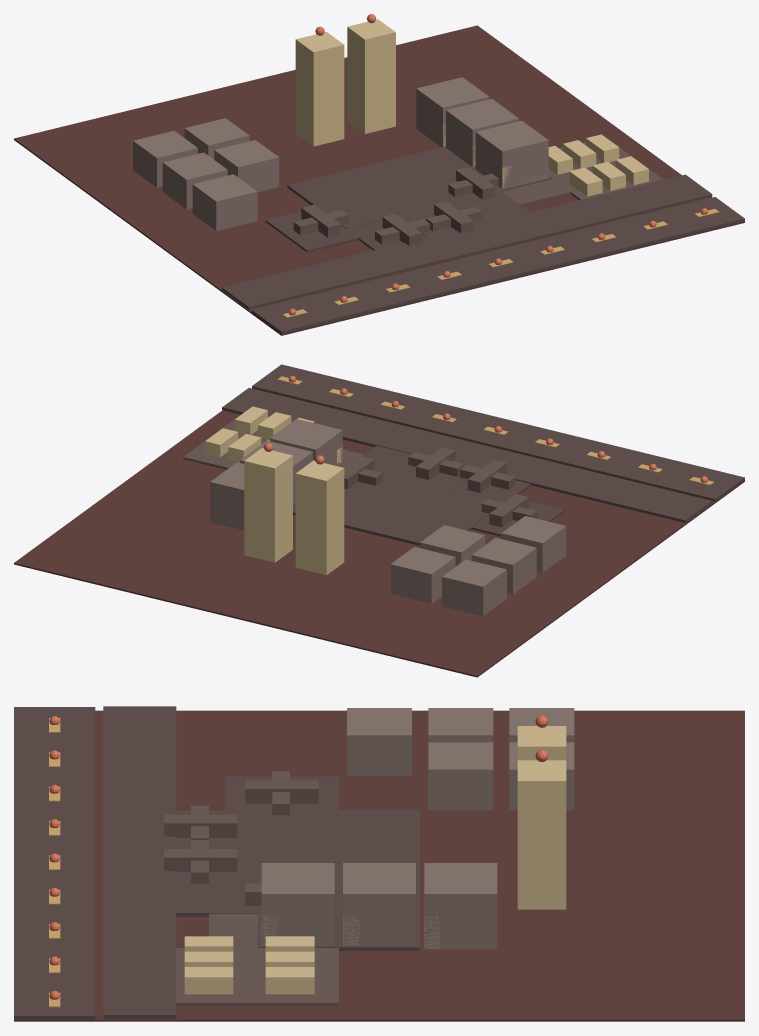
Rendered from stage_22.glb.
3 renders of one model, top to bottom at view 1: azimuth 30°, elevation 25°; view 2: azimuth 150°, elevation 25°; view 3: azimuth 270°, elevation 25°, orthographic. The views are drawn at different scales.
Parts seen in each view (by area): view 1: geometry_0; view 2: geometry_0; view 3: geometry_0.
Part boxes in pixels (x1,y1,x2,y2): geometry_0: [14, 14, 744, 335]; geometry_0: [14, 364, 744, 677]; geometry_0: [14, 706, 744, 1021].
Bounding box in the file's own units: 9 × 2.06 × 9.
